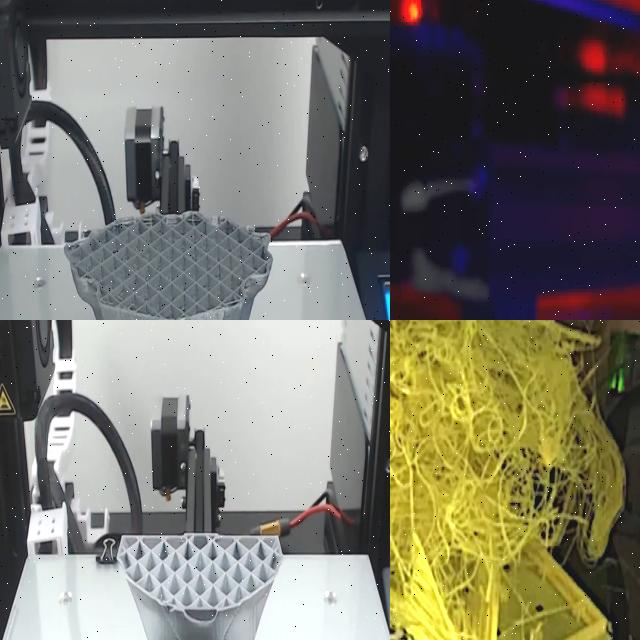spaghetti: (390, 320, 640, 640)
